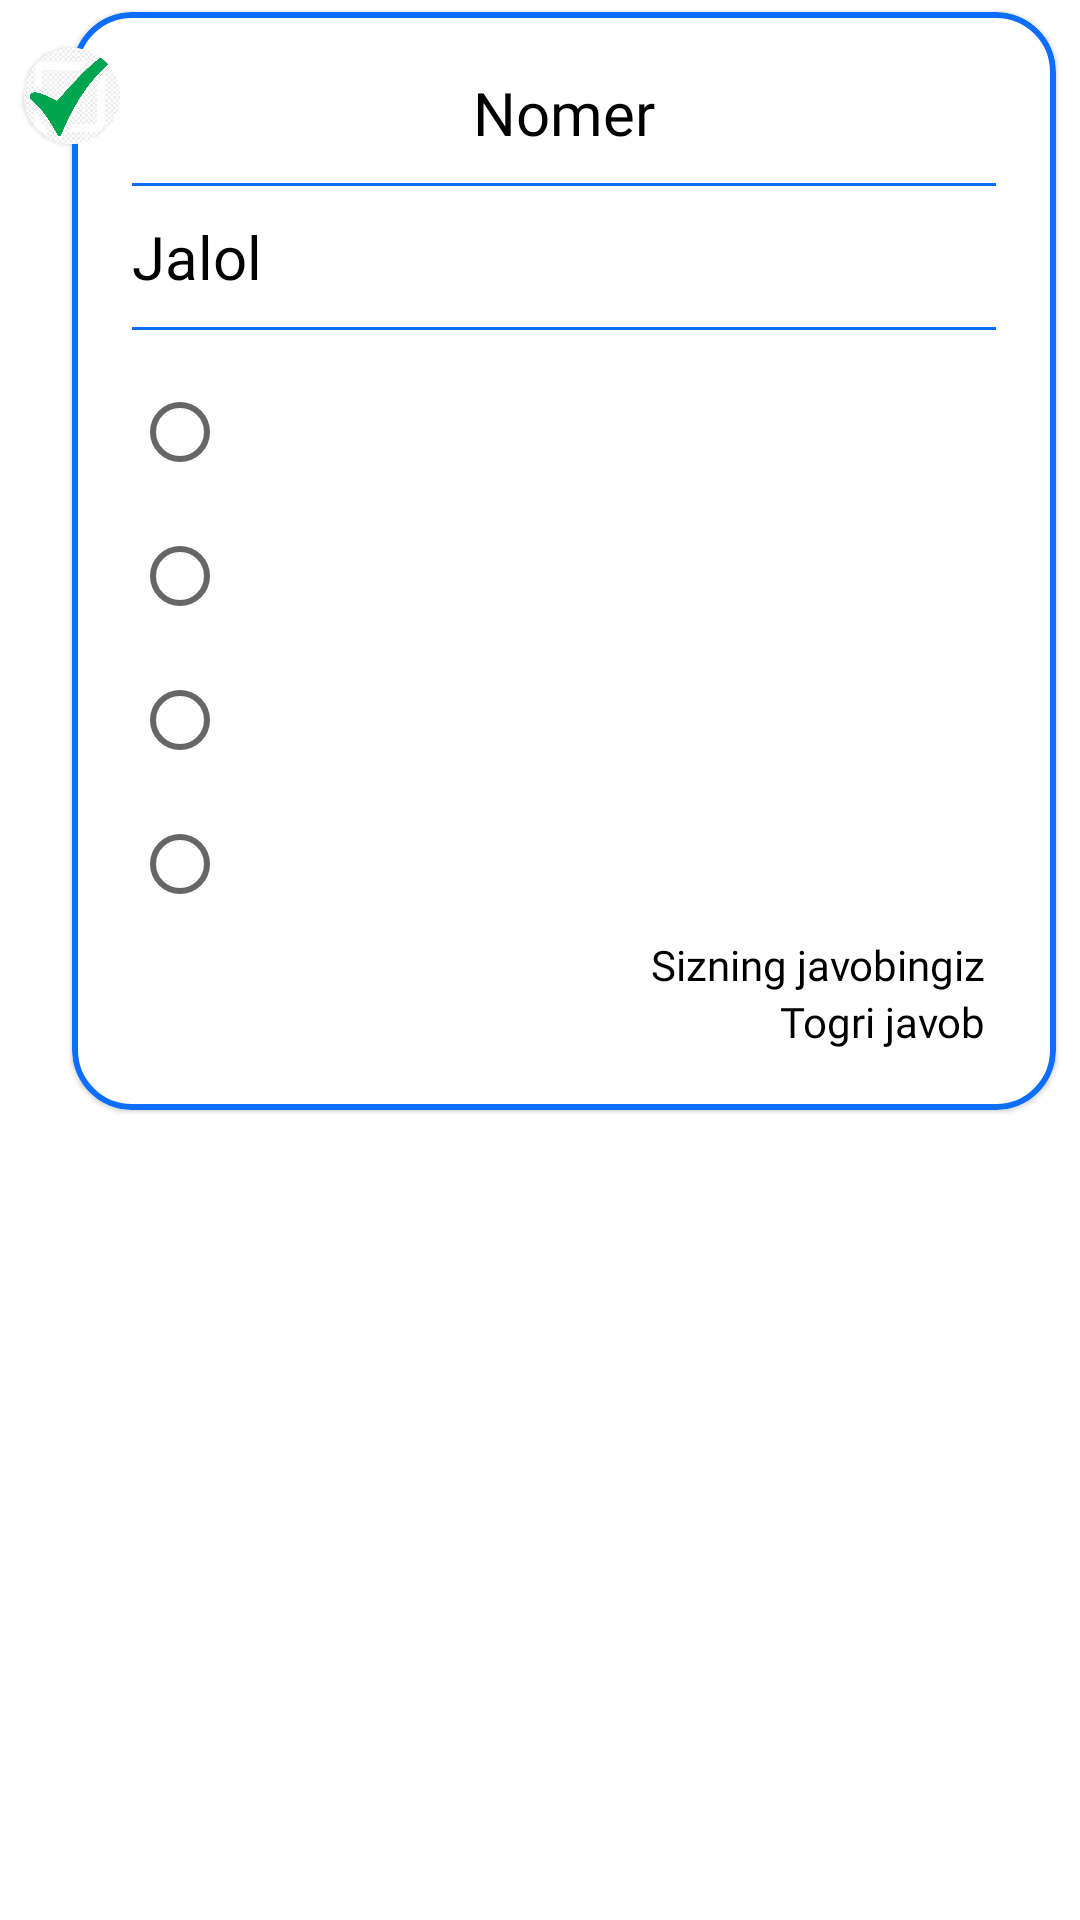

Where to tap for icons on this 1080w x 1920h app screen, as (x,y):
markasdone: (66,97)
